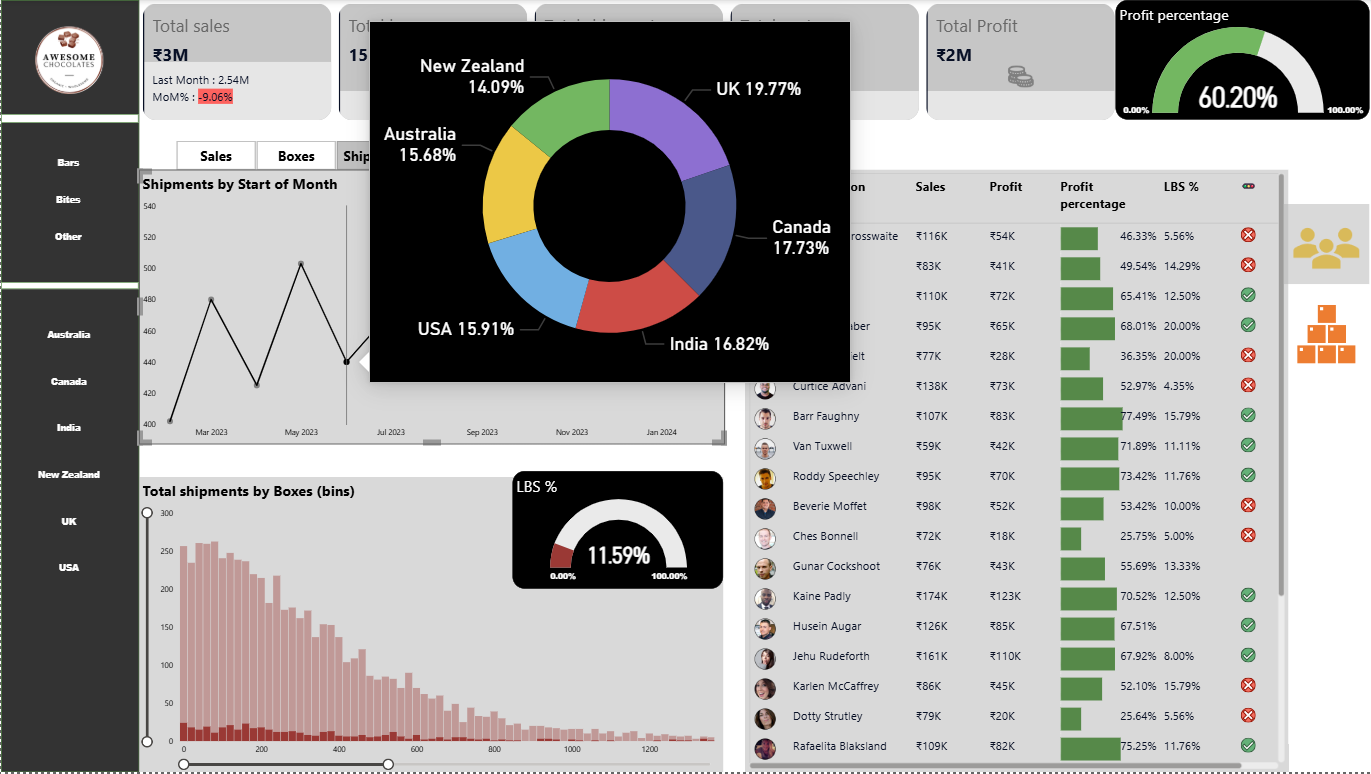

The dashboard page shown, as its layout file describes it:
{"tool":"powerbi","page":{"name":"Sales Report","canvas":[1920,1080],"ordinal":1},"visuals":[{"type":"shape","box":[0,0,193.5,1080.4],"z":0},{"type":"cardVisual","fields":{"Data":["_Measures.Total sales","_Measures.Total boxes","_Measures.Total shipments","_Measures.Total cost","_Measures.Total Profit"]},"box":[193.5,0,1372.1,173.3],"z":1000},{"type":"gauge","fields":{"Y":["_Measures.Profit percentage"]},"box":[1560,0,355,167.5],"z":2000},{"type":"image","box":[10,32.5,170,105],"z":3000},{"type":"lineChart","fields":{"Y":["_Measures.Total Profit"],"Category":["calendar.Start of Month"]},"box":[193.5,236.9,820.4,384.2],"z":4000},{"type":"slicer","fields":{"Values":["Measure Selector.Measure Selector"]},"box":[227.5,197.5,597.5,40],"z":5000},{"type":"columnChart","fields":{"Category":["shipments.Boxes (bins)"],"Y":["_Measures.Total shipments"]},"box":[193.5,667.3,817.5,413.1],"z":6000},{"type":"gauge","fields":{"Y":["_Measures.LBS %"]},"box":[716.4,658.6,294.6,164.7],"z":7000},{"type":"tableEx","title":"Product Details Table","fields":{"Values":["shipments.Product","_Measures.Total sales","_Measures.Total Profit","_Measures.Profit percentage","_Measures.LBS %","_Measures.Profit target Indicator"]},"box":[1042.8,196.4,756.8,883.9],"z":9000},{"type":"slicer","fields":{"Values":["products.Category"]},"box":[17.5,197.5,152.5,165],"z":10000},{"type":"slicer","fields":{"Values":["shipments.Geography"]},"box":[0,430,187.5,402.5],"z":11000},{"type":"shape","box":[0,395,192.5,10],"z":12000},{"type":"shape","box":[0,160,192.5,12.5],"z":13000},{"type":"image","box":[1795,290,120,115],"z":14000},{"type":"image","box":[1795,410,120,115],"z":15000},{"type":"bookmarkNavigator","box":[1795,285,120,235],"z":16000}]}

Visuals, with their boxes on the page's 1920x1080 design canvas (x1, y1, x2, y2). These are canvas units, not pixel positions in the 1371x774 screenshot, which may show the page scaled, cropped or inside an application window:
shape: pyautogui.locateOnScreen(0, 0, 194, 1080)
cardVisual - _Measures.Total sales x _Measures.Total boxes: pyautogui.locateOnScreen(194, 0, 1566, 173)
gauge - _Measures.Profit percentage: pyautogui.locateOnScreen(1560, 0, 1915, 168)
image: pyautogui.locateOnScreen(10, 32, 180, 138)
lineChart - _Measures.Total Profit x calendar.Start of Month: pyautogui.locateOnScreen(194, 237, 1014, 621)
slicer - Measure Selector.Measure Selector: pyautogui.locateOnScreen(228, 198, 825, 238)
columnChart - shipments.Boxes (bins) x _Measures.Total shipments: pyautogui.locateOnScreen(194, 667, 1011, 1080)
gauge - _Measures.LBS %: pyautogui.locateOnScreen(716, 659, 1011, 823)
"Product Details Table" tableEx: pyautogui.locateOnScreen(1043, 196, 1800, 1080)
slicer - products.Category: pyautogui.locateOnScreen(18, 198, 170, 362)
slicer - shipments.Geography: pyautogui.locateOnScreen(0, 430, 188, 832)
shape: pyautogui.locateOnScreen(0, 395, 192, 405)
shape: pyautogui.locateOnScreen(0, 160, 192, 172)
image: pyautogui.locateOnScreen(1795, 290, 1915, 405)
image: pyautogui.locateOnScreen(1795, 410, 1915, 525)
bookmarkNavigator: pyautogui.locateOnScreen(1795, 285, 1915, 520)
